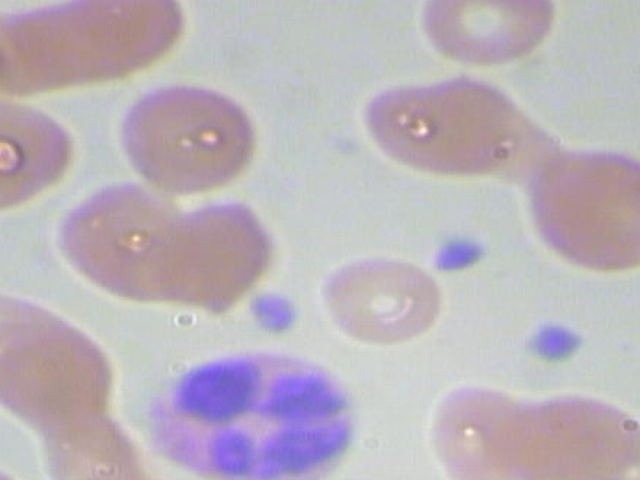Platelets: (512, 316, 593, 364), (243, 290, 310, 341), (425, 234, 489, 281)
RBC: (138, 195, 287, 317), (353, 69, 518, 179), (106, 80, 259, 198), (0, 308, 124, 435), (524, 145, 640, 278), (305, 253, 457, 352), (499, 383, 640, 480), (409, 0, 561, 71), (0, 93, 81, 224)
WBC: (135, 346, 369, 480)
